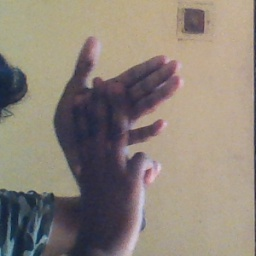M: (50, 35, 184, 248)
